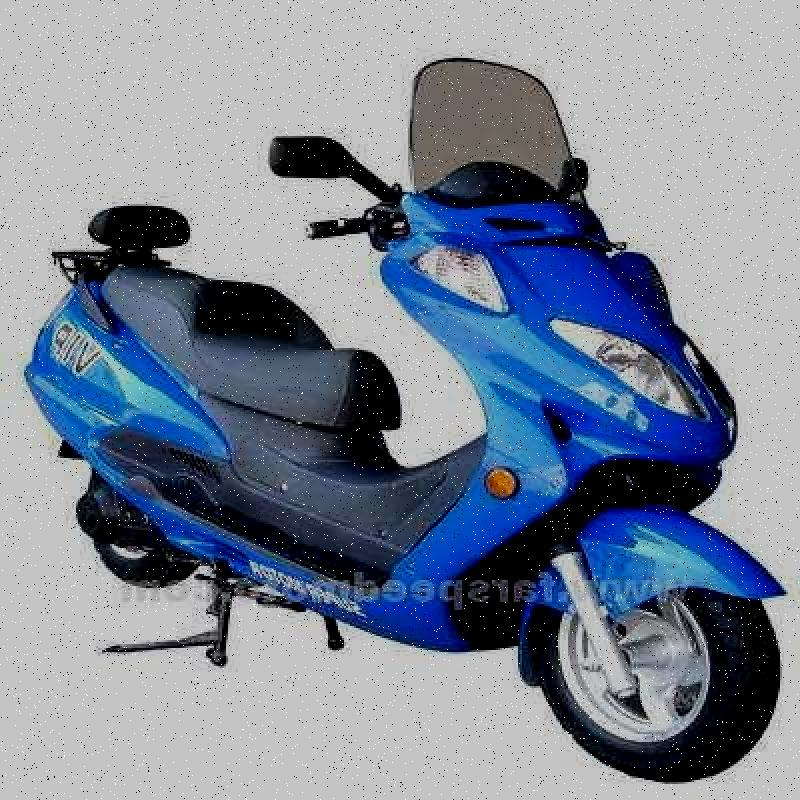bike: (0, 77, 800, 742)
